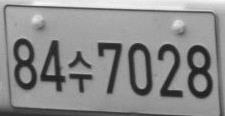0: (127, 42, 153, 95)
2: (157, 43, 183, 98)
4: (39, 39, 66, 92)
7: (96, 42, 122, 94)
8: (186, 43, 213, 98), (12, 36, 37, 90)
수: (67, 51, 92, 92)
